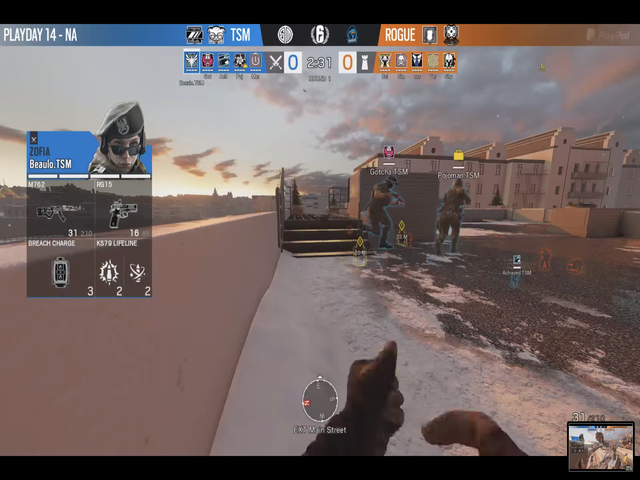0_blue: (284, 51, 304, 75)
